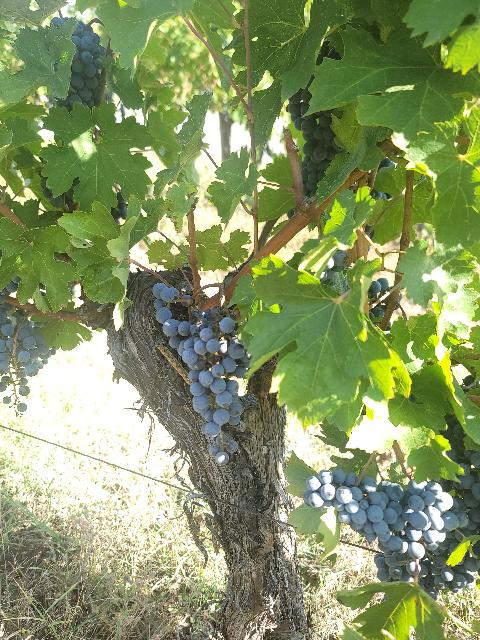grapes: (152, 282, 251, 464), (304, 469, 460, 582), (0, 304, 56, 414)
